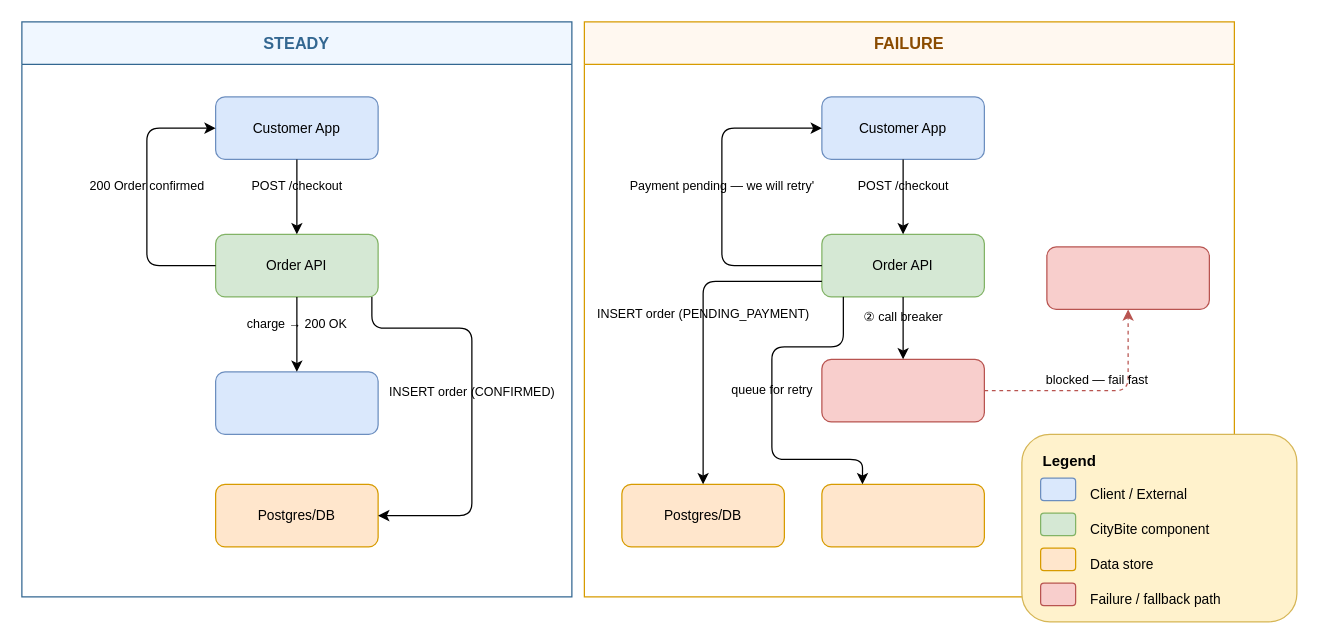
Some shapes in this 1319 by 644 pixel diagram are drawn without their labels. Here are the shapes that lost their labels. From the top down, the centre of each, then its label:
[1127,277]: Payment Gateway (slow / 500)
[296,402]: Payment Gateway
[902,390]: Circuit Breaker (OPEN)
[902,515]: Order Queue (PENDING_PAYMENT)
